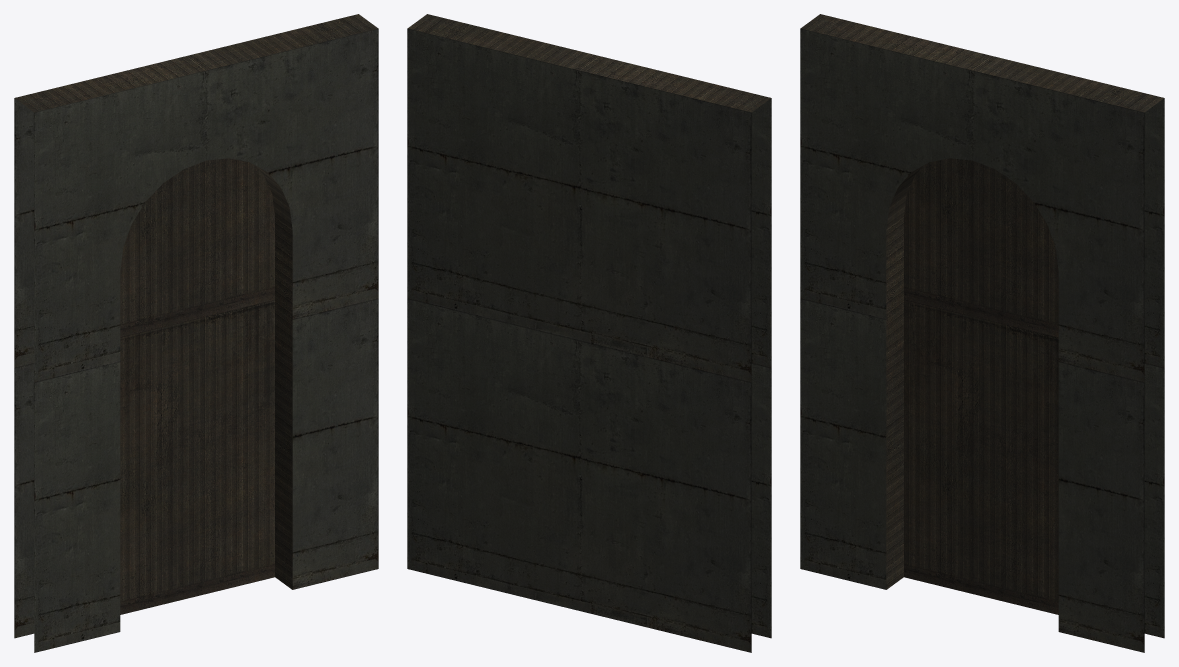
File: wall_rg_15_double.dae
The picture shows the model from 3 angles, left to right: view 1: azimuth 30°, elevation 25°; view 2: azimuth 150°, elevation 25°; view 3: azimuth 330°, elevation 25°; orthographic projection.
Visible parts, largest first — view 1: wall_rg_15_double; view 2: wall_rg_15_double; view 3: wall_rg_15_double.
Part boxes in pixels (x1,y1,x2,y2): wall_rg_15_double: (14, 14, 378, 652); wall_rg_15_double: (407, 14, 771, 652); wall_rg_15_double: (800, 14, 1164, 652).
Bounding box in the file's own units: 4 × 0.4 × 6.
Materials: 2 (2 with a texture image).
